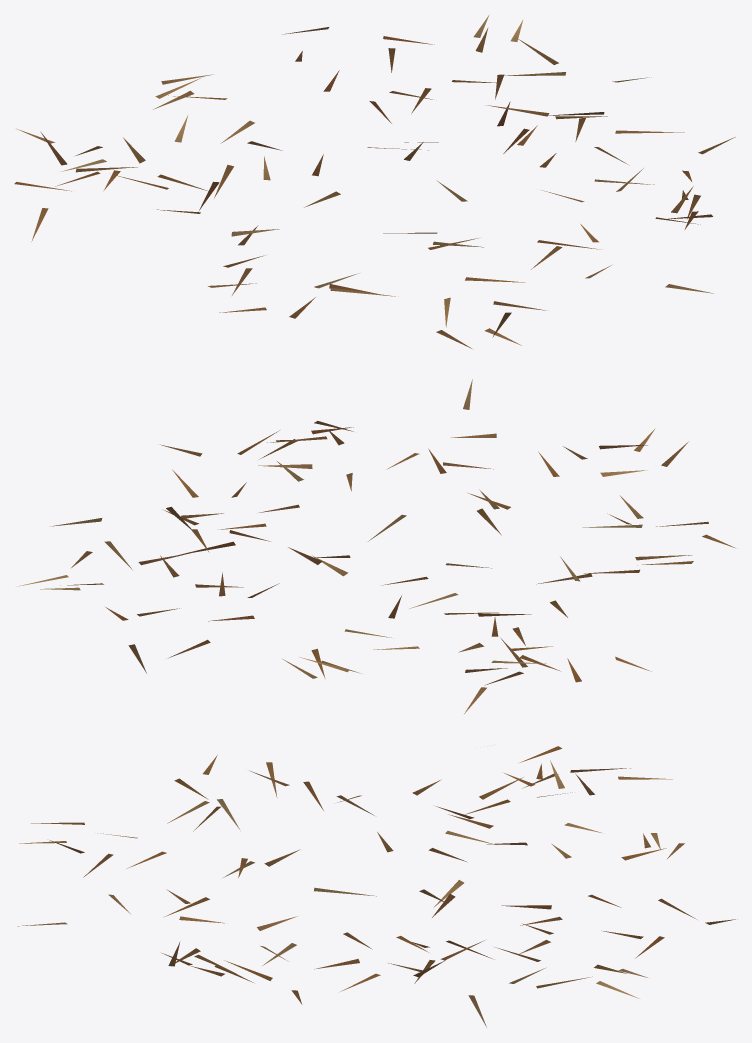
Rendered from litter-conifer-a.lod2.glb.
3 views of the same model, one above another, from view 1: azimuth 30°, elevation 25°; view 2: azimuth 150°, elevation 25°; view 3: azimuth 270°, elevation 25° (orthographic). The views are drawn at different scales.
Bounding box in the file's own units: 1.73 × 0.0786 × 1.86.
